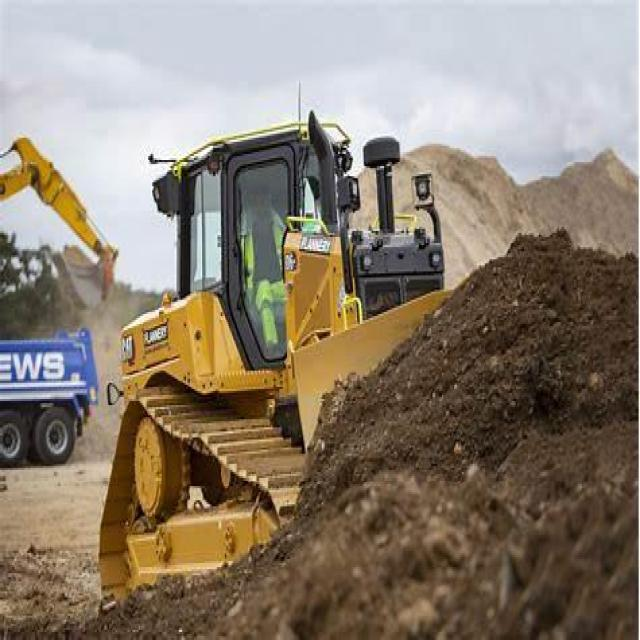buldozerpayloadergrader: (82, 119, 465, 622)
